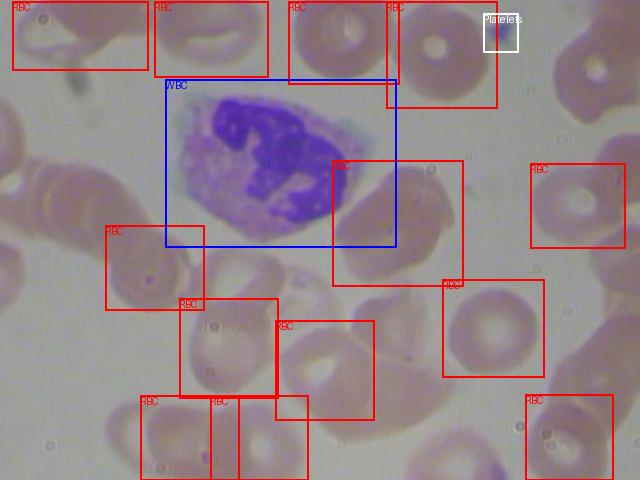Platelets: (483, 13, 518, 52)
RBC: (332, 160, 463, 286), (386, 1, 497, 108), (442, 279, 544, 377), (179, 298, 278, 398), (275, 320, 374, 420), (12, 1, 148, 70), (288, 1, 399, 84), (154, 1, 268, 77), (140, 395, 239, 480), (105, 225, 204, 310), (210, 395, 308, 480), (530, 163, 625, 248), (525, 394, 613, 480)
WBC: (165, 79, 396, 247)
